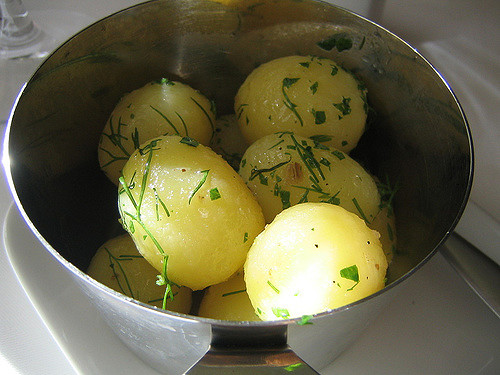boiled potatoes: (115, 135, 266, 290), (244, 203, 385, 319), (234, 53, 366, 149), (233, 134, 382, 217), (100, 79, 217, 181), (85, 233, 191, 312)
